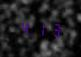four: (18, 18, 31, 36)
one: (33, 19, 46, 37)
three: (47, 20, 60, 38)
